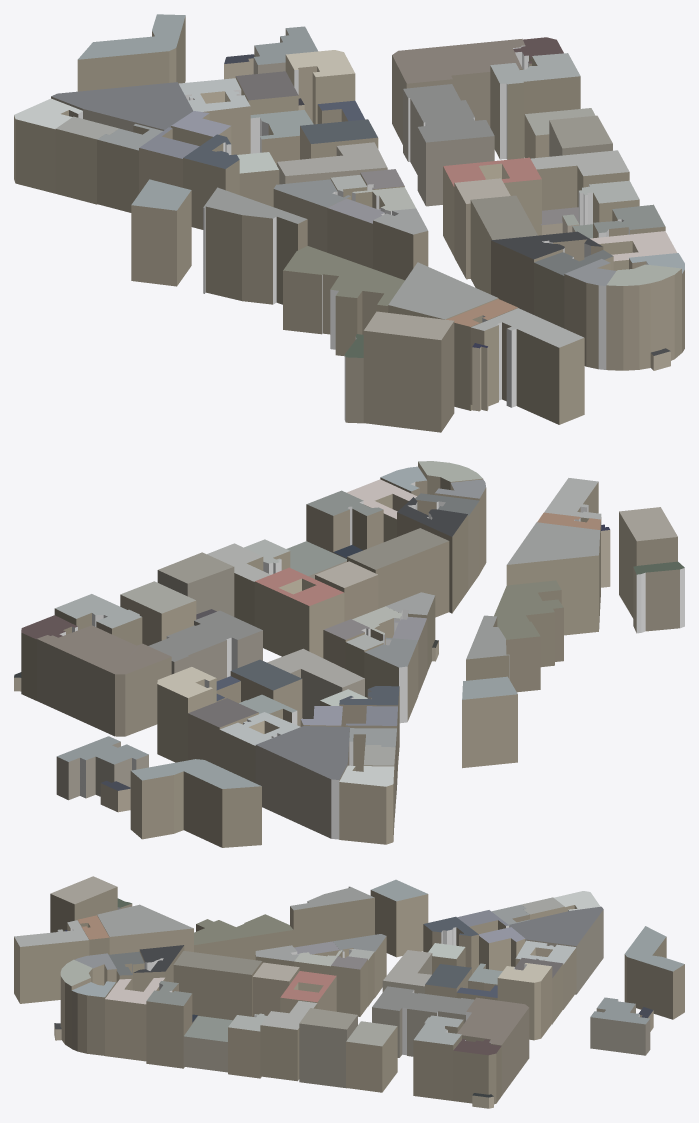
3 views of the same model, one above another, from view 1: azimuth 30°, elevation 25°; view 2: azimuth 150°, elevation 25°; view 3: azimuth 270°, elevation 25° (orthographic). The views are drawn at different scales.
Parts seen in each view (by area): view 1: tuile; view 2: tuile; view 3: tuile.
Boxes of the visible parts, x1,y1,x2,y2 form: tuile: [14, 14, 684, 432]; tuile: [14, 461, 684, 847]; tuile: [14, 876, 684, 1108].
Bounding box in the file's own units: 167 × 30.85 × 265.
